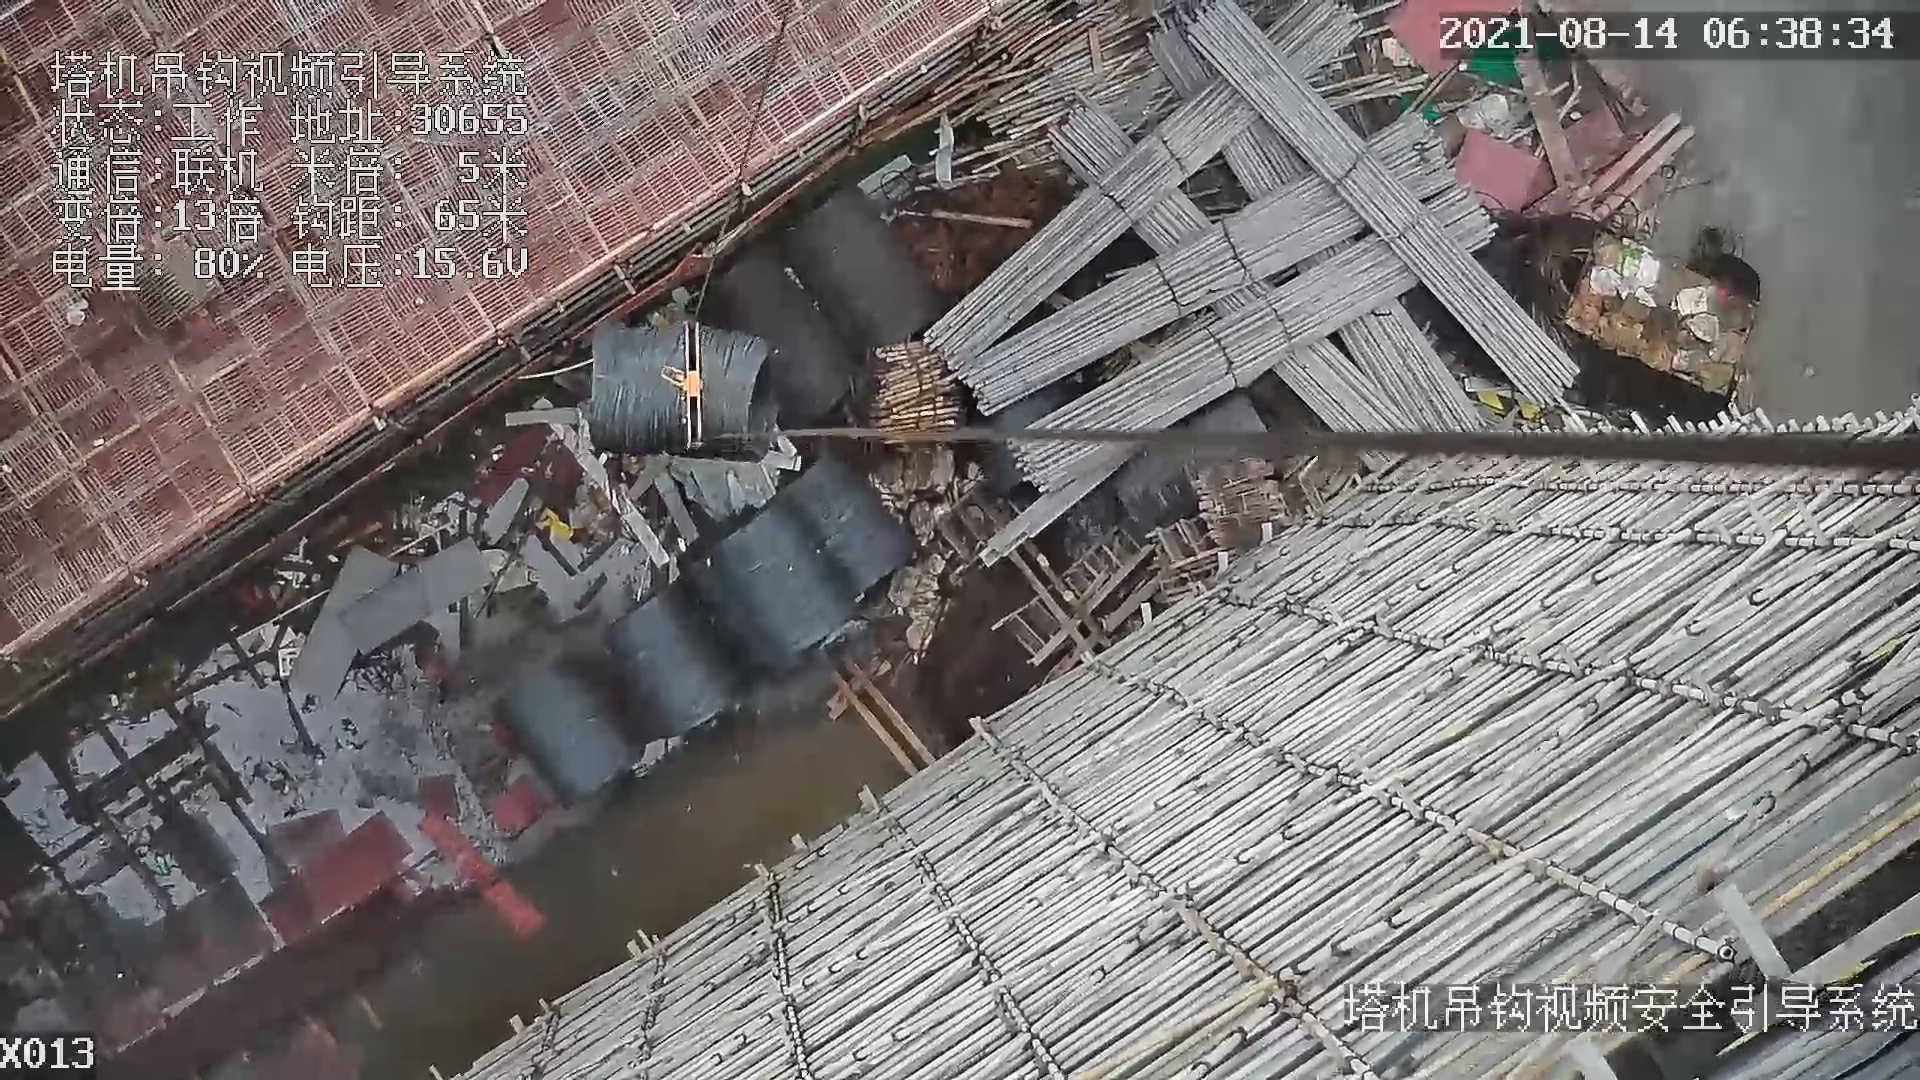hook: (659, 314, 717, 448)
